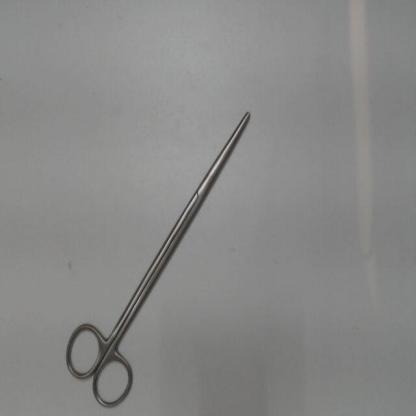9 Metzenbaum Scissors: (61, 105, 257, 413)
